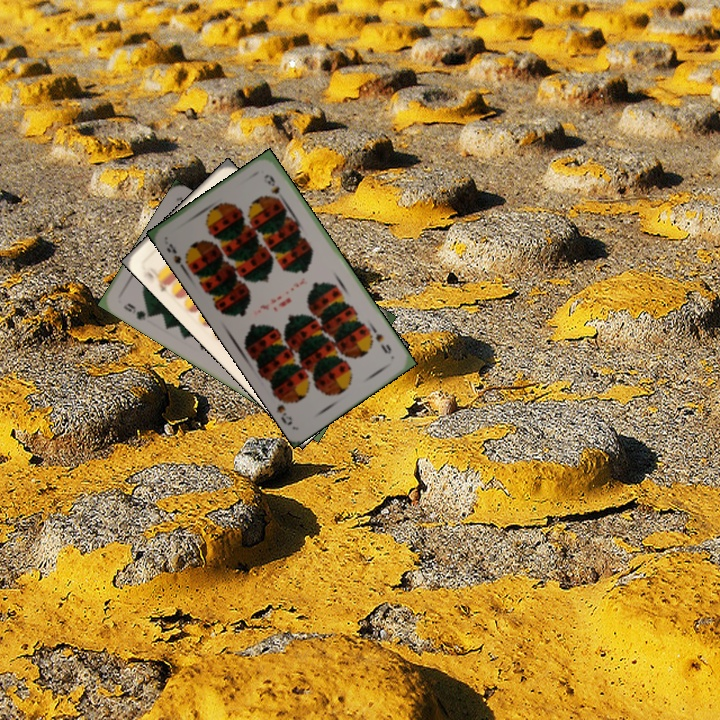E10: (138, 261, 174, 295)
G9: (119, 299, 155, 323)
S9: (162, 239, 195, 274), (366, 324, 394, 357)
